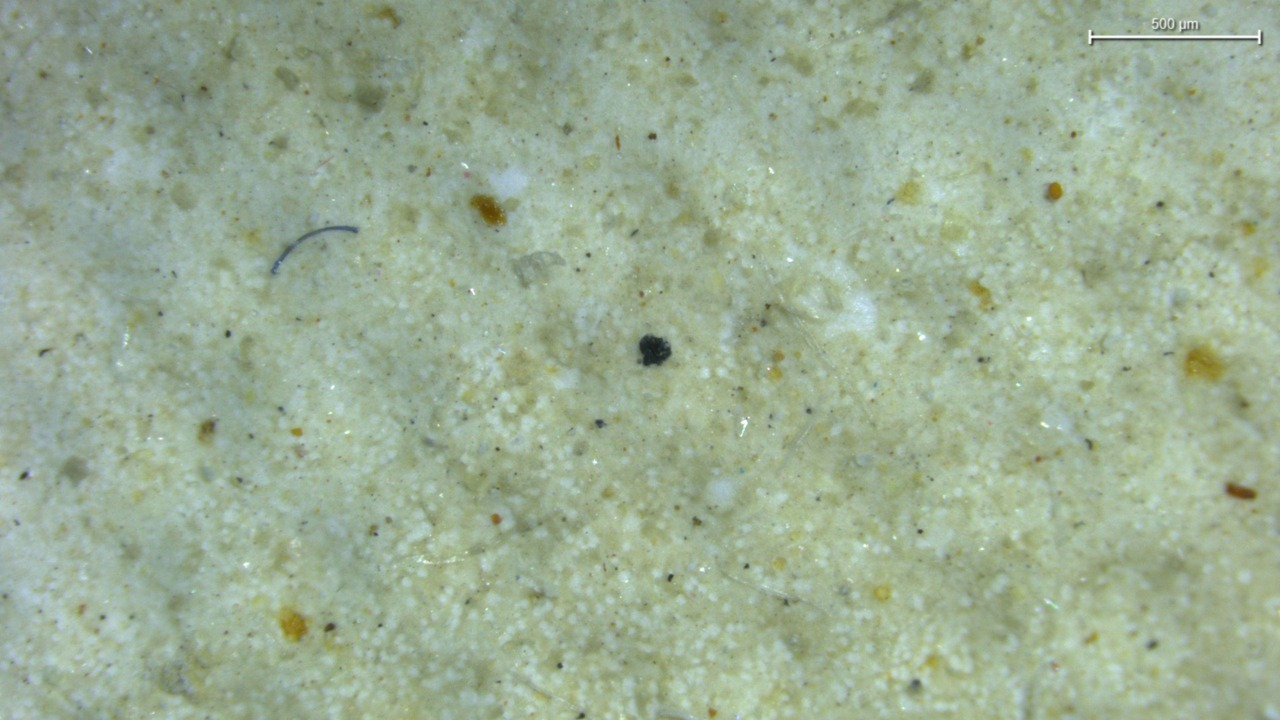microplastic_fragment: (514, 251, 565, 284), (639, 334, 671, 366)
